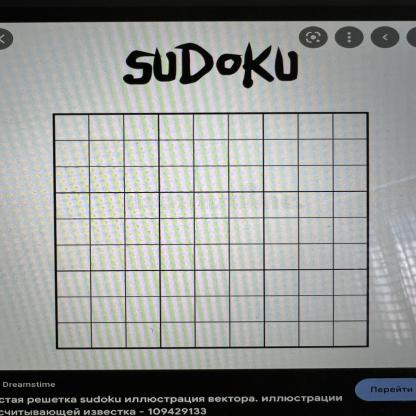sudoku: (48, 109, 376, 351)
